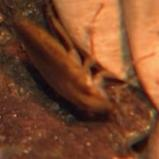cockroach: (14, 13, 116, 120)
